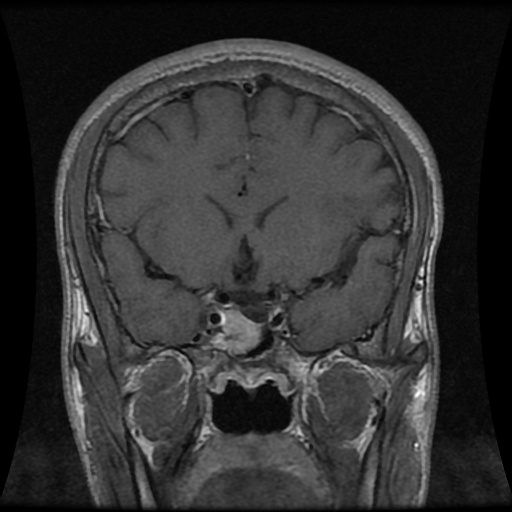pituitary: (216, 309, 260, 348)
